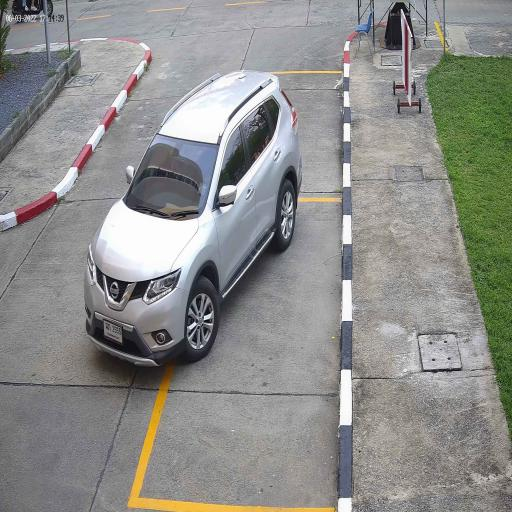car: (82, 68, 304, 369)
